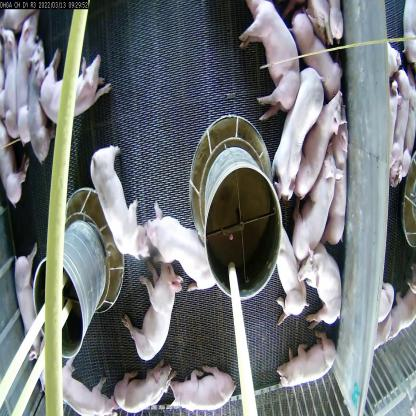Pig: (90, 139, 147, 269), (231, 0, 296, 114), (121, 262, 187, 367), (276, 64, 326, 200), (147, 203, 217, 292), (33, 46, 110, 122), (294, 141, 336, 264), (294, 94, 340, 205), (9, 239, 46, 372), (299, 239, 344, 335), (295, 8, 342, 97), (324, 100, 352, 249), (53, 356, 122, 416), (267, 228, 309, 324), (108, 360, 180, 416), (24, 43, 55, 172), (168, 359, 239, 414), (276, 329, 334, 391)
